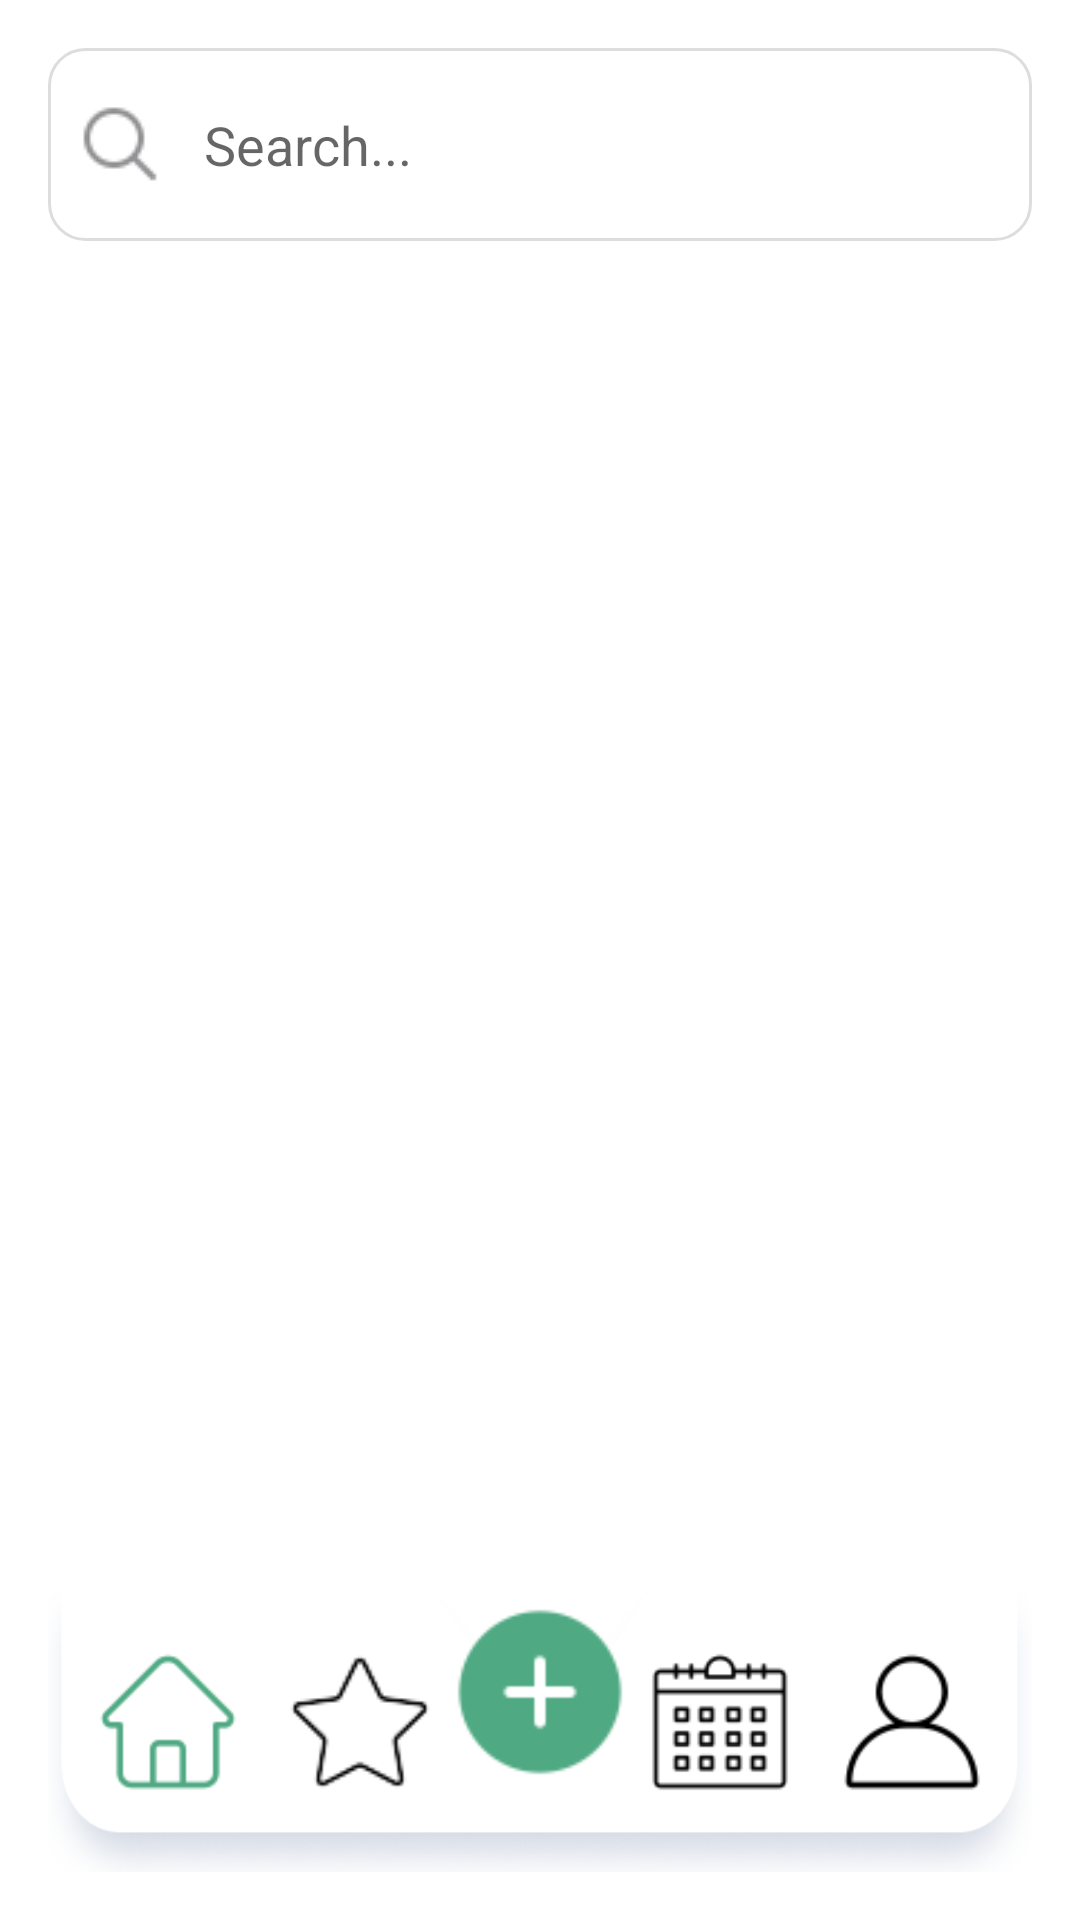

Locate icon controls on the screen. Image size 1080x1920, boxes as (x1, y1, x2, y2).
Ícone de busca: (83, 107, 157, 181)
